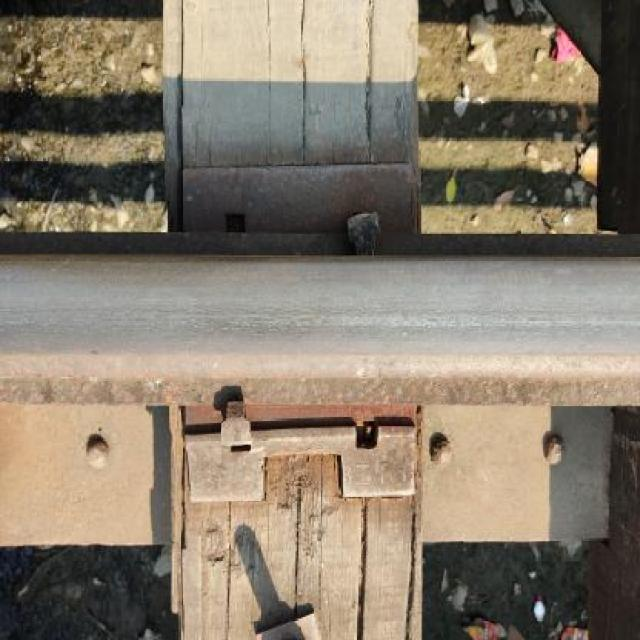non-defective: (1, 235, 640, 469)
